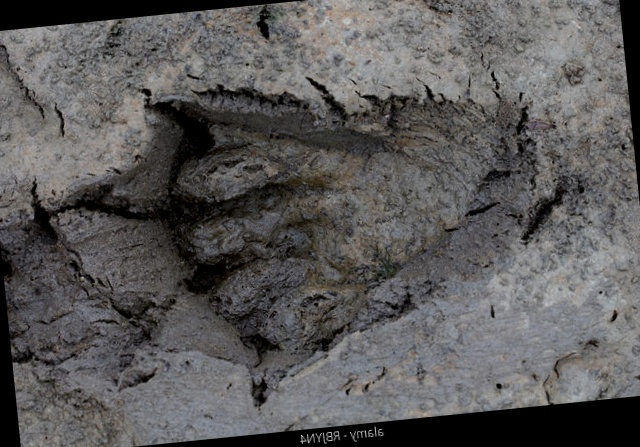beaver: (33, 44, 600, 398)
